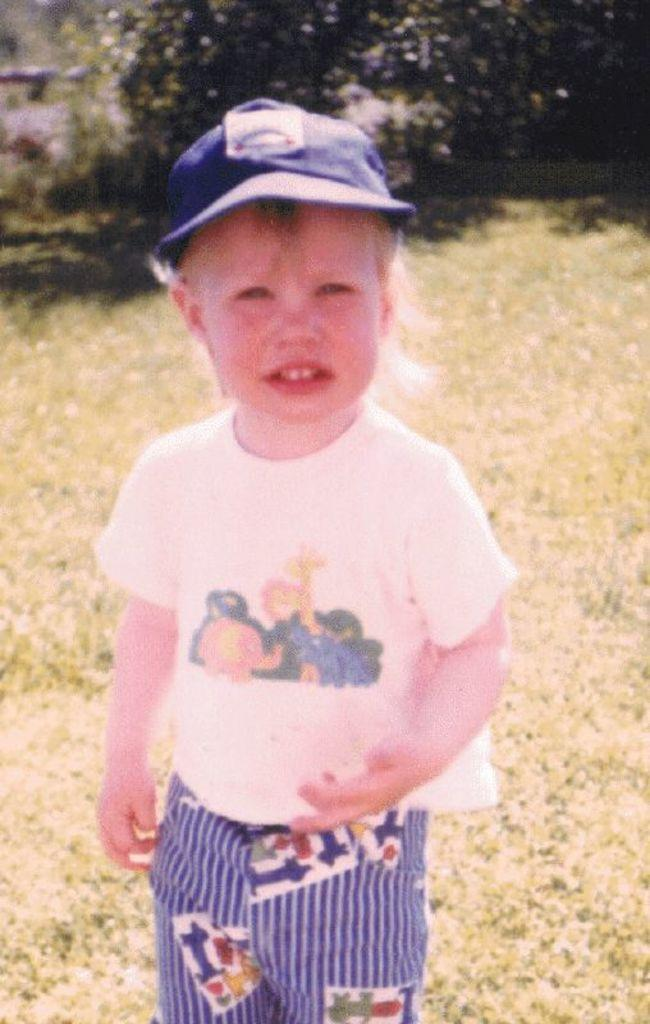Hat: (152, 96, 412, 266)
